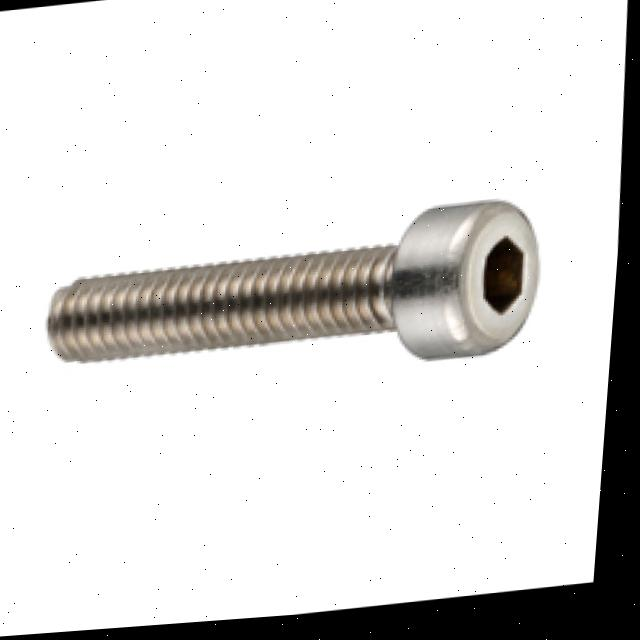Hex Socket Allen: (442, 195, 552, 359)
